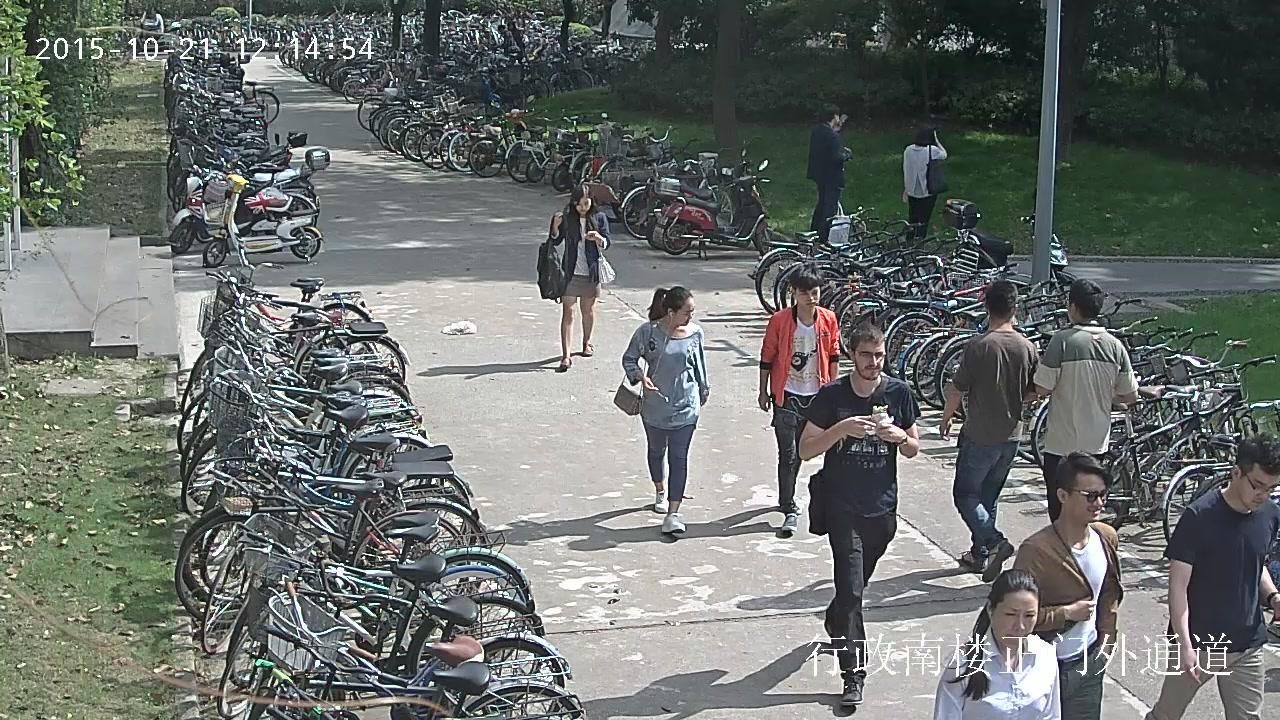face: (991, 591, 1039, 647), (1242, 462, 1280, 510), (1067, 475, 1105, 522), (856, 339, 883, 379), (674, 295, 694, 327), (795, 285, 820, 309), (573, 197, 591, 213), (835, 115, 839, 123), (151, 6, 154, 13)
